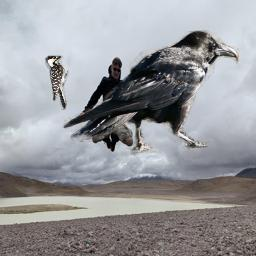Crow: (61, 29, 239, 158)
Woodpecker: (44, 55, 70, 110)
